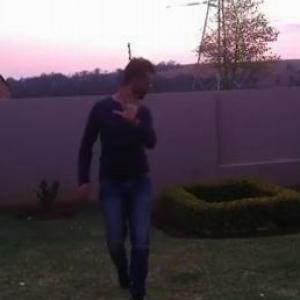follow_hand: (110, 86, 148, 123)
